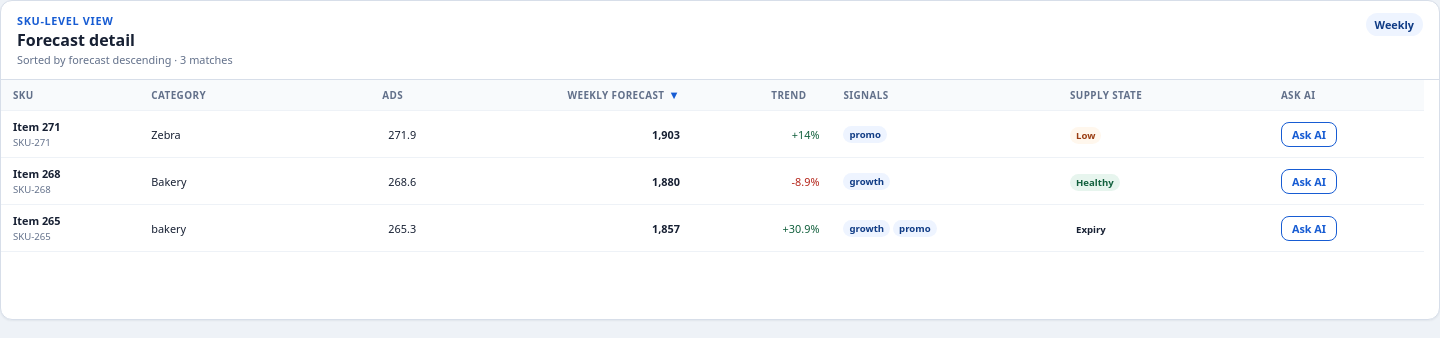
Test: ForecastDetailTable › toggles the active sort and updates the subtitle and indicator
Click the button with aria-label "Sort by ADS" at x=372, y=95, box x1=328 y1=88 x2=416 y2=102
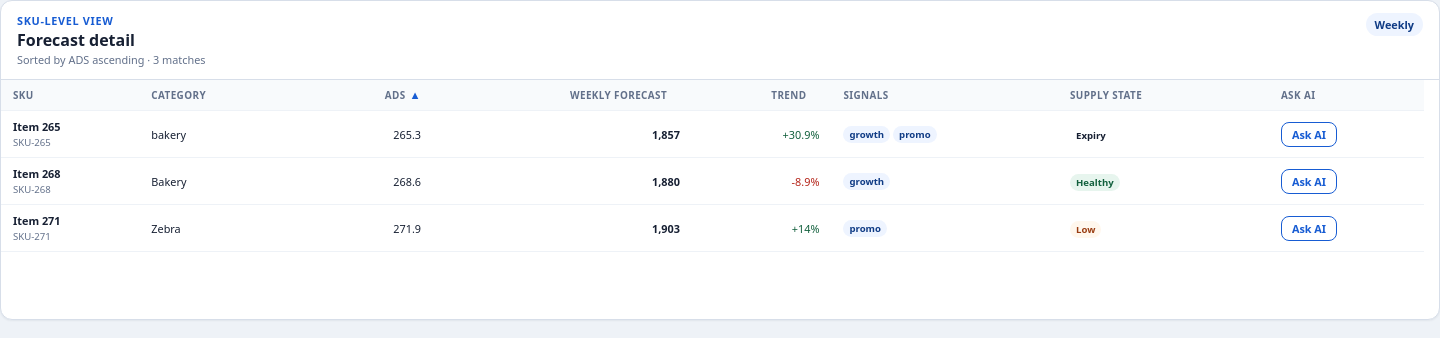
Result: the text "Sorted by ADS ascending · 3 matches" is shown at x1=17 y1=52 x2=206 y2=67
Result: the text "▲" is shown at x1=410 y1=89 x2=421 y2=101
Click the button with aria-label "Sort by ADS" at x=375, y=95, box x1=328 y1=88 x2=421 y2=102
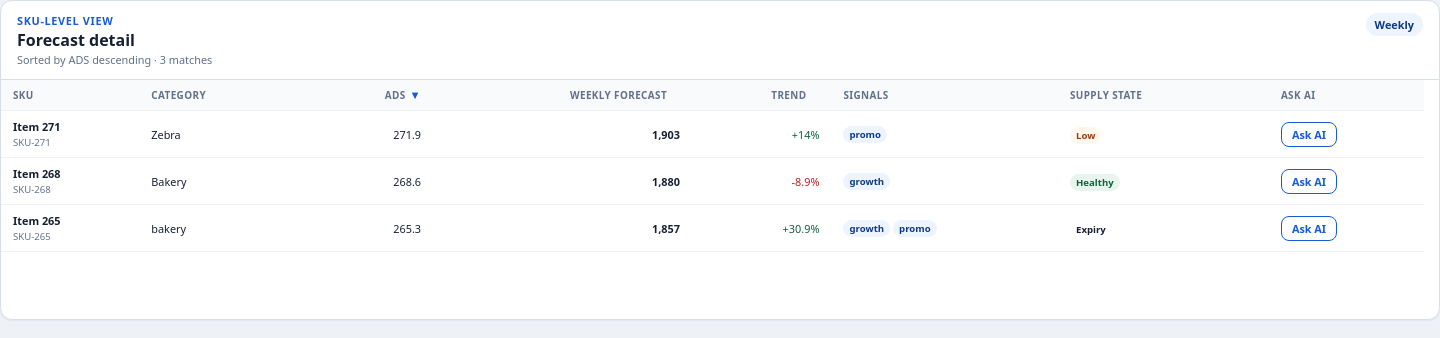
Result: the text "Sorted by ADS descending · 3 matches" is shown at x1=17 y1=52 x2=212 y2=67
Result: the text "▼" is shown at x1=410 y1=89 x2=421 y2=101
